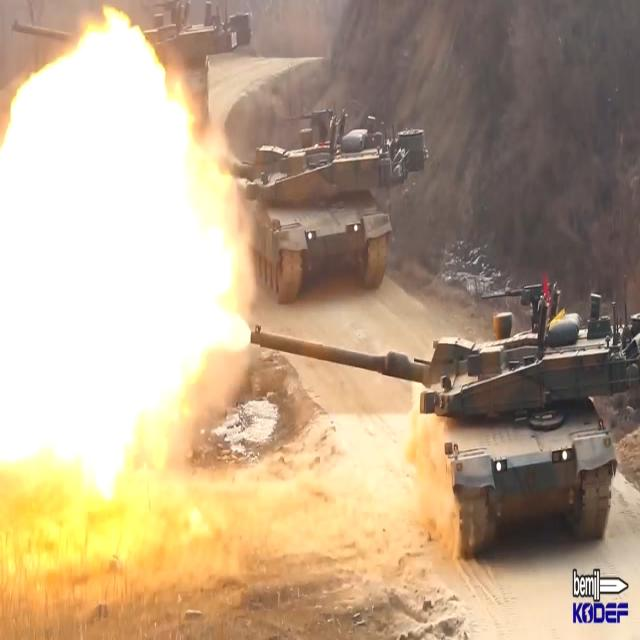korea tank: (248, 277, 640, 562)
